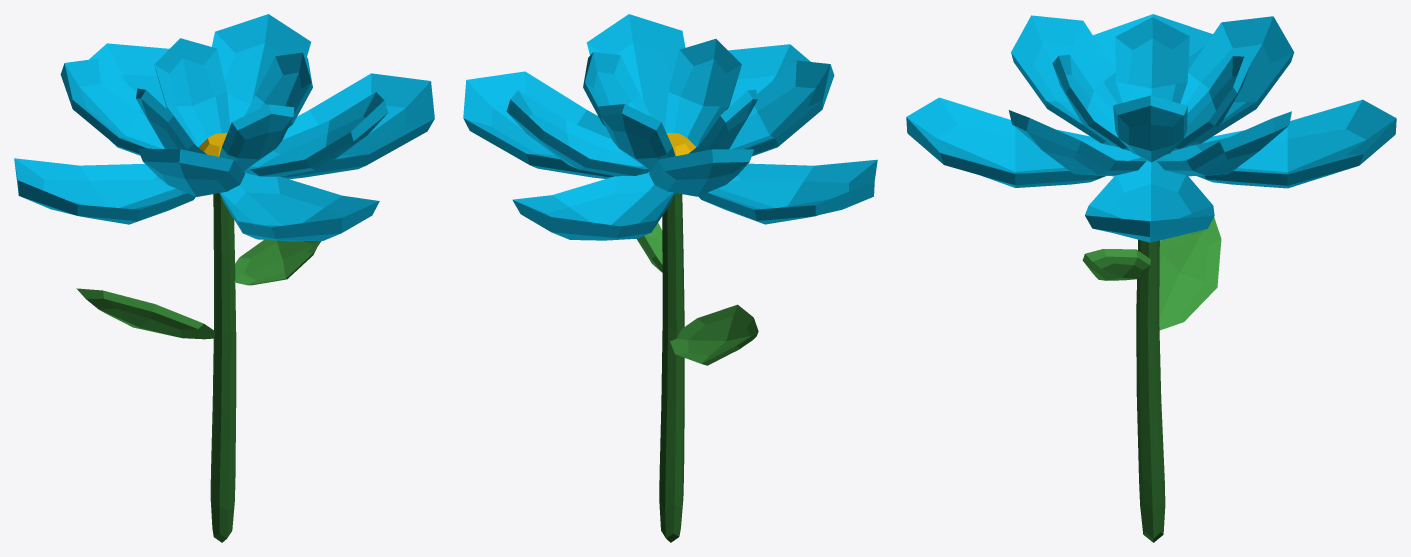
File: FBLUE_STEM.fbx
3 renders of one model, left to right at view 1: azimuth 30°, elevation 25°; view 2: azimuth 150°, elevation 25°; view 3: azimuth 270°, elevation 25°, orthographic. The views are drawn at different scales.
Visible parts, largest first — view 1: pCube21 (×6), pCube22 (×6), pCube23, pCube24, pCube25; view 2: pCube22 (×6), pCube21 (×6), pCube23, pCube24, pCube25; view 3: pCube22 (×6), pCube21 (×6), pCube23, pCube24, pCube25.
Part boxes in pixels (left/top/right/bottom): pCube21 (×6): left=14, top=52, right=434, bottom=224; pCube22 (×6): left=89, top=14, right=379, bottom=241; pCube23: left=210, top=193, right=236, bottom=542; pCube24: left=76, top=288, right=214, bottom=339; pCube25: left=234, top=240, right=321, bottom=285; pCube22 (×6): left=506, top=39, right=834, bottom=240; pCube21 (×6): left=463, top=14, right=877, bottom=224; pCube23: left=659, top=193, right=684, bottom=542; pCube24: left=670, top=304, right=758, bottom=365; pCube25: left=637, top=223, right=662, bottom=272; pCube22 (×6): left=906, top=15, right=1396, bottom=188; pCube21 (×6): left=1008, top=14, right=1294, bottom=242; pCube23: left=1136, top=239, right=1165, bottom=542; pCube24: left=1159, top=217, right=1221, bottom=330; pCube25: left=1082, top=249, right=1150, bottom=280.
Size of the model in its own units: 0.4124 by 0.4522 by 0.4124.
